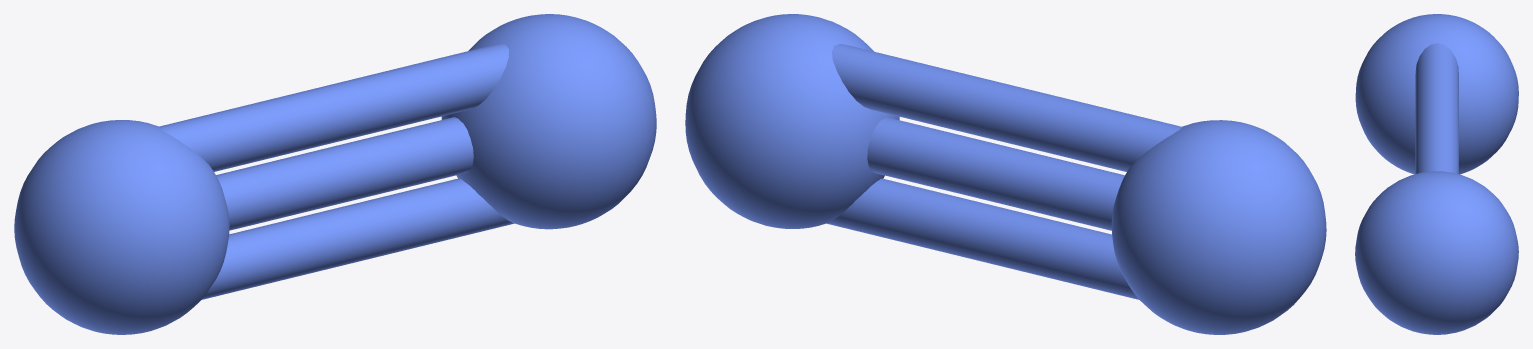
File: N2-animated.fbx
The picture shows the model from 3 angles, left to right: view 1: azimuth 30°, elevation 25°; view 2: azimuth 150°, elevation 25°; view 3: azimuth 270°, elevation 25°; orthographic projection. The views are drawn at different scales.
Parts seen in each view (by area): view 1: Nitrogen_ball.002, Nitrogen_ball.001, Nitrogen_ball.003; view 2: Nitrogen_ball.002, Nitrogen_ball.001, Nitrogen_ball.003; view 3: Nitrogen_ball.003, Nitrogen_ball.001, Nitrogen_ball.002.
Part boxes in pixels (box(x1,y1,x2,y2)): Nitrogen_ball.002: box(158, 43, 514, 299); Nitrogen_ball.001: box(14, 120, 229, 334); Nitrogen_ball.003: box(441, 14, 656, 229); Nitrogen_ball.002: box(826, 44, 1182, 299); Nitrogen_ball.001: box(1111, 120, 1326, 334); Nitrogen_ball.003: box(685, 14, 899, 228); Nitrogen_ball.003: box(1355, 171, 1518, 334); Nitrogen_ball.001: box(1355, 14, 1518, 174); Nitrogen_ball.002: box(1415, 43, 1458, 173).
Size of the model in its own units: 247 by 75.66 by 75.
